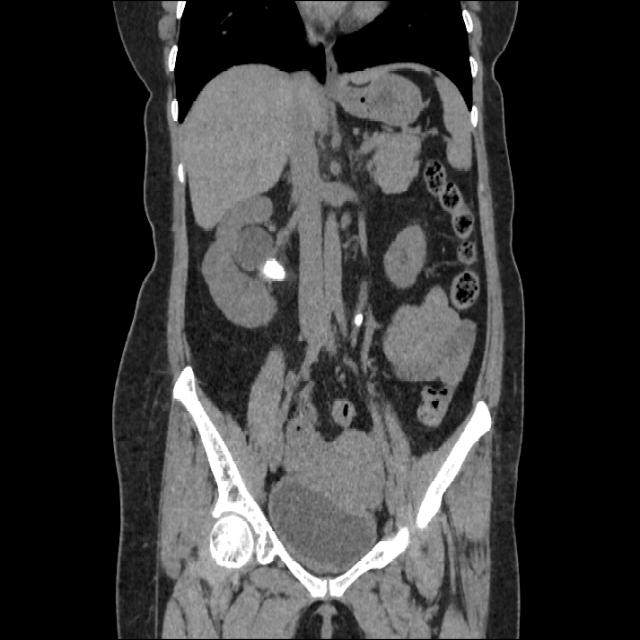kidney: (202, 226, 295, 330)
stone: (262, 258, 284, 280), (354, 314, 366, 330)
